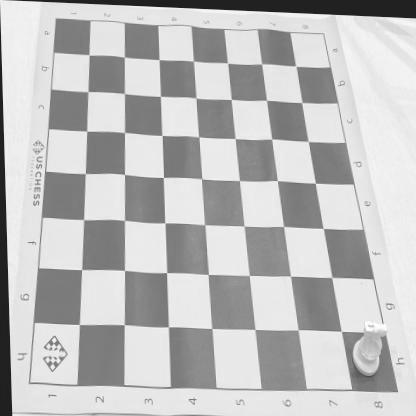white-knight: (350, 316, 388, 374)
